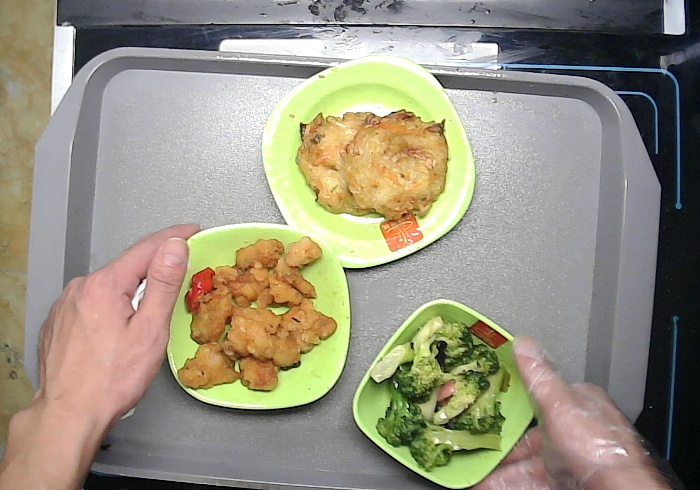SHKJ-Lv_Se_Cai_Die: (161, 221, 351, 413)
SHKJ-Lv_Se_Si_Fang_Cai_Die: (260, 54, 476, 270)
SHKJ-Lv_Se_Xiao_Fang_Die: (351, 298, 541, 490)
